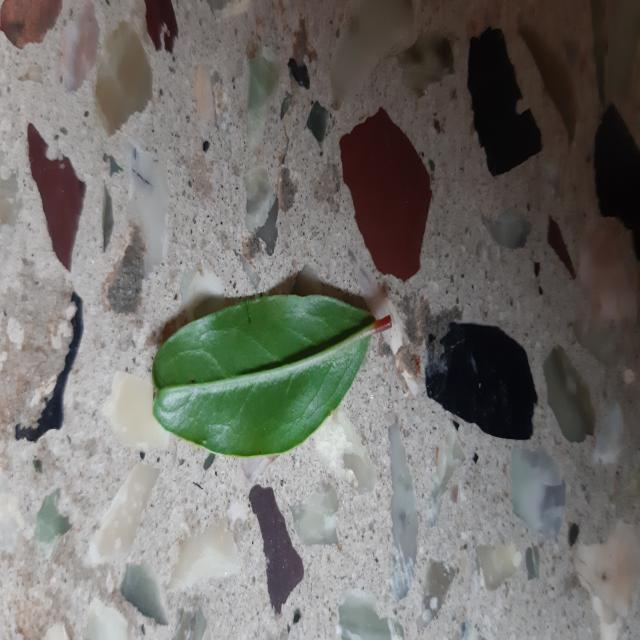leaf: (150, 291, 390, 457)
